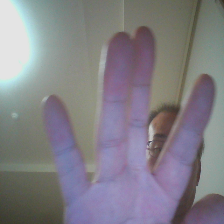hand: (43, 22, 211, 224)
